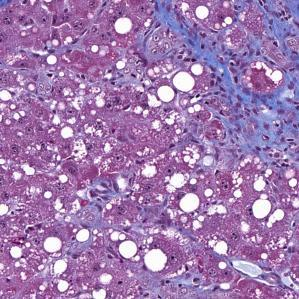fibrosis: (151, 3, 299, 69), (199, 78, 299, 164)
